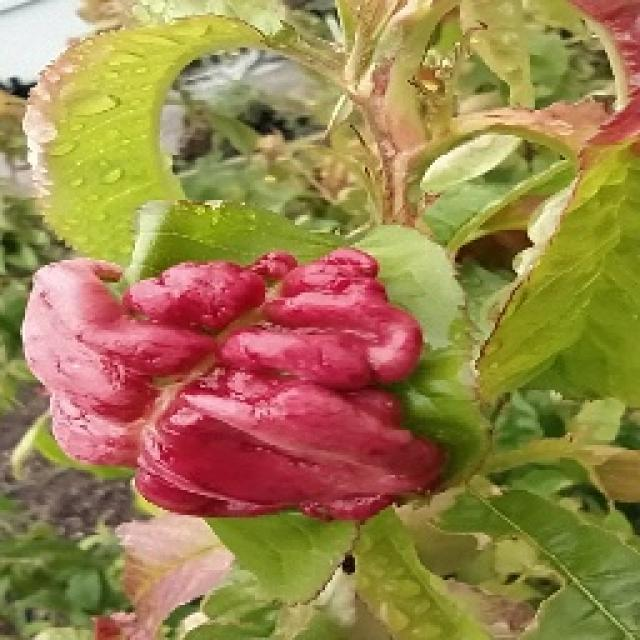peach_leaf_curl: (18, 242, 448, 522)
